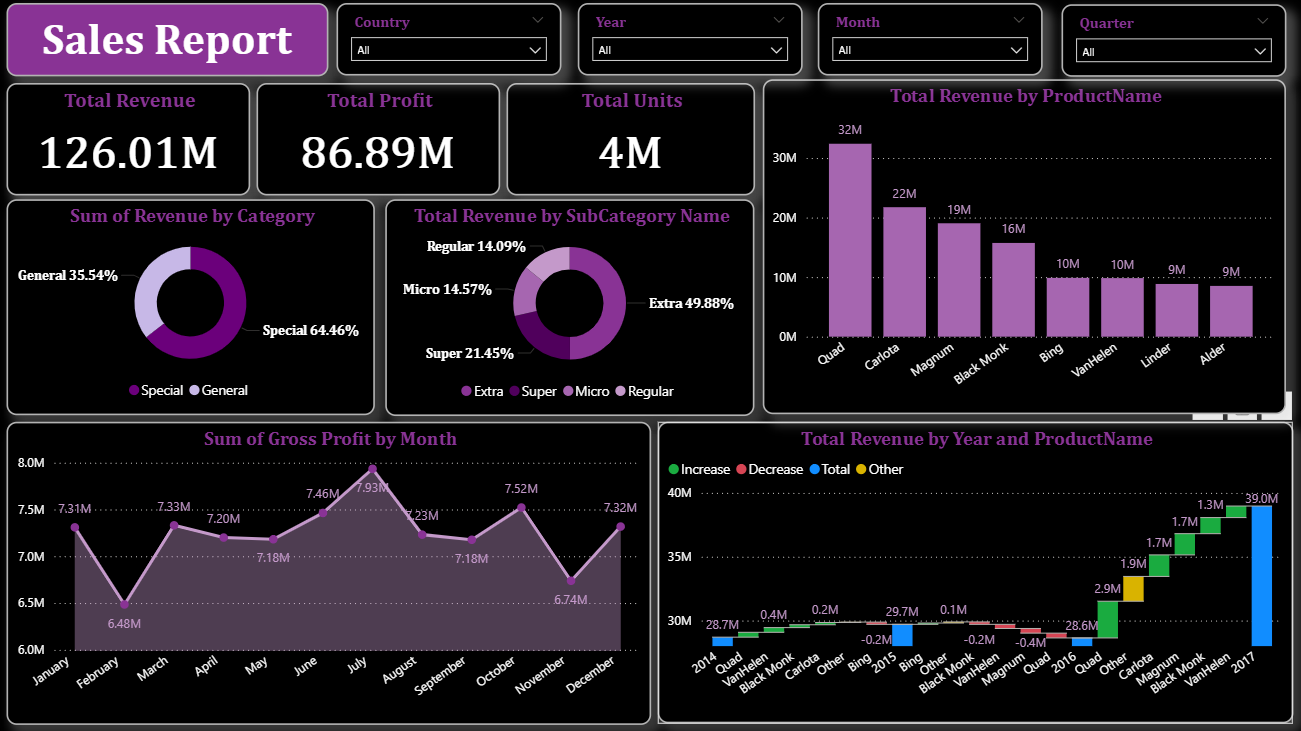

What the dashboard file says about the page in this screenshot:
{"tool":"powerbi","page":{"name":"Page 1","canvas":[1280,720],"ordinal":0},"visuals":[{"type":"textbox","box":[7.5,5,315.8,71.7],"z":0},{"type":"card","title":"Total Revenue","fields":{"Values":["Sales.Total Revenue"]},"box":[7.3,83.3,239.1,110],"z":1000},{"type":"card","title":"Total Profit","fields":{"Values":["Sales.Total Profit"]},"box":[252.7,83.3,239.1,110],"z":2000},{"type":"card","title":"Total Units","fields":{"Values":["Sum(Sales.Units)"]},"box":[498.2,83.3,243.6,110],"z":3000},{"type":"donutChart","fields":{"Y":["Sum(Sales.Revenue)"],"Category":["Categories.Category"]},"box":[7.3,197.3,361.8,211.8],"z":4000},{"type":"donutChart","fields":{"Y":["Sales.Total Revenue"],"Category":["SubCategory.SubCategory Name"]},"box":[379.1,197.3,362.7,212.7],"z":5000},{"type":"areaChart","fields":{"Category":["Date Master.Date.Variation.Date Hierarchy.Month"],"Y":["Sum(Sales.Gross Profit)"]},"box":[7.3,416.4,632.7,297.3],"z":6000},{"type":"waterfallChart","fields":{"Category":["Date Master.Date.Variation.Date Hierarchy.Year"],"Y":["Sales.Total Revenue"],"Breakdown":["Product.ProductName"]},"box":[646.4,416.4,623.6,296.4],"z":7000},{"type":"clusteredColumnChart","fields":{"Category":["Product.ProductName"],"Y":["Sales.Total Revenue"]},"box":[750,80,513.6,329.1],"z":8000},{"type":"slicer","fields":{"Values":["Geography.Country"]},"box":[331.7,5,220.8,70.8],"z":9000},{"type":"slicer","fields":{"Values":["Date Master.Date.Variation.Date Hierarchy.Year"]},"box":[568.3,5,220.8,70.8],"z":10000},{"type":"slicer","fields":{"Values":["Date Master.Date.Variation.Date Hierarchy.Month"]},"box":[803.3,5,220.8,70.8],"z":11000},{"type":"slicer","fields":{"Values":["Date Master.Date.Variation.Date Hierarchy.Quarter"]},"box":[1042.5,5.8,220.8,70.8],"z":12000}]}

Visuals, with their boxes in screenshot pixels (x1, y1, x2, y2), scaled from the page's 1280x720 canvas onto the 1301x731 screenshot:
textbox: left=8, top=5, right=329, bottom=78
"Total Revenue" card: left=7, top=85, right=250, bottom=196
"Total Profit" card: left=257, top=85, right=500, bottom=196
"Total Units" card: left=506, top=85, right=754, bottom=196
donutChart - Sum(Sales.Revenue) x Categories.Category: left=7, top=200, right=375, bottom=415
donutChart - Sales.Total Revenue x SubCategory.SubCategory Name: left=385, top=200, right=754, bottom=416
areaChart - Date Master.Date.Variation.Date Hierarchy.Month x Sum(Sales.Gross Profit): left=7, top=423, right=650, bottom=725
waterfallChart - Date Master.Date.Variation.Date Hierarchy.Year x Sales.Total Revenue: left=657, top=423, right=1291, bottom=724
clusteredColumnChart - Product.ProductName x Sales.Total Revenue: left=762, top=81, right=1284, bottom=415
slicer - Geography.Country: left=337, top=5, right=562, bottom=77
slicer - Date Master.Date.Variation.Date Hierarchy.Year: left=578, top=5, right=802, bottom=77
slicer - Date Master.Date.Variation.Date Hierarchy.Month: left=816, top=5, right=1041, bottom=77
slicer - Date Master.Date.Variation.Date Hierarchy.Quarter: left=1060, top=6, right=1284, bottom=78
